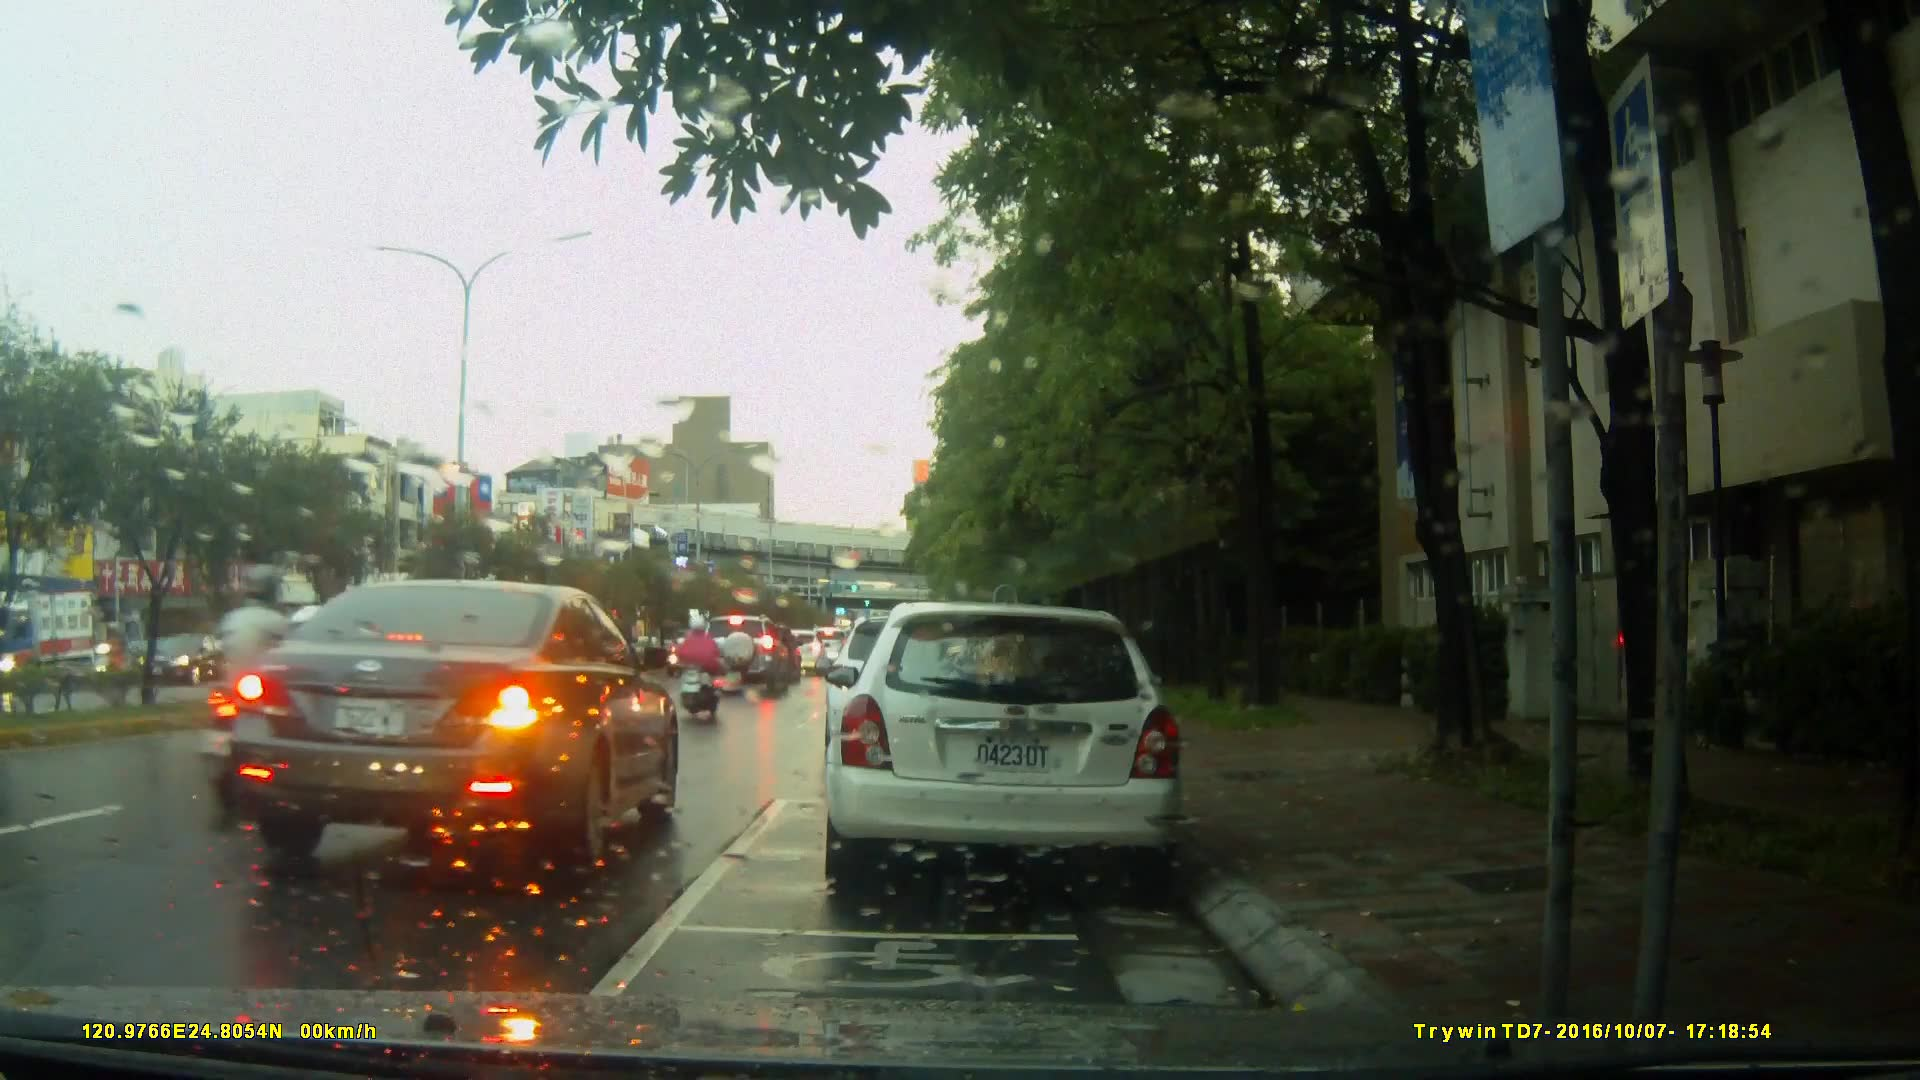rider: (203, 559, 342, 830), (684, 613, 725, 730)
vehicle: (224, 576, 684, 872), (820, 602, 1188, 898), (696, 615, 790, 698), (134, 634, 239, 689)
